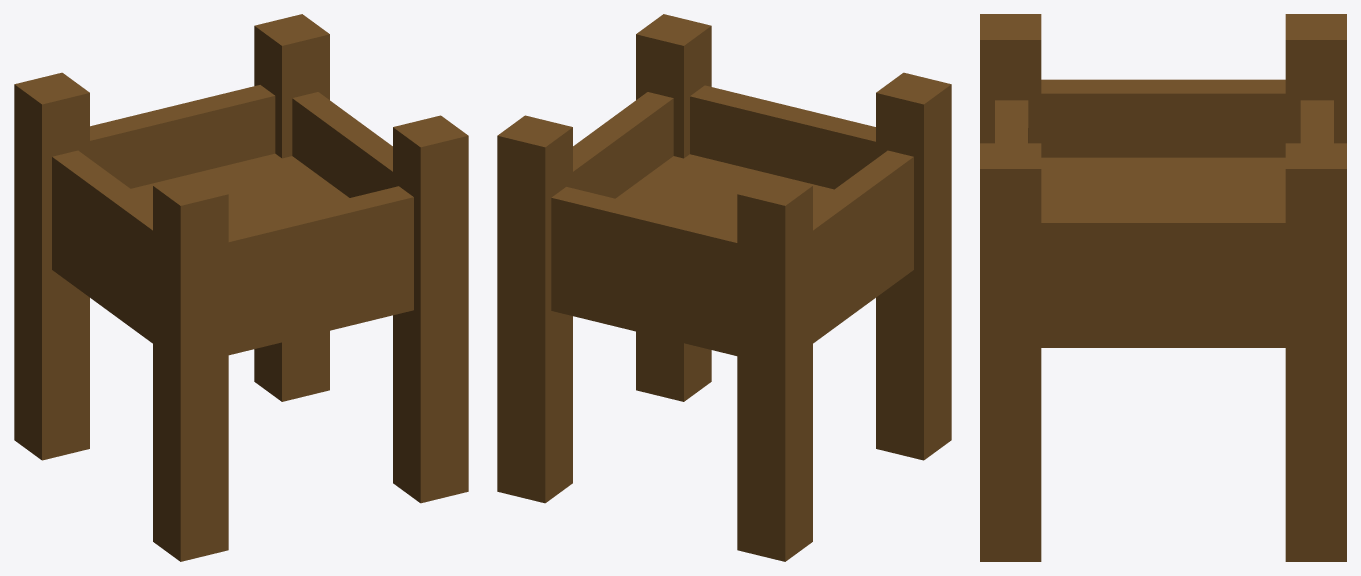
File: Single.fbx
3 views of the same model, side by side, from view 1: azimuth 30°, elevation 25°; view 2: azimuth 150°, elevation 25°; view 3: azimuth 270°, elevation 25° (orthographic). The views are drawn at different scales.
Visible parts, largest first — view 1: Bridge - Single; view 2: Bridge - Single; view 3: Bridge - Single.
Part boxes in pixels (left/top/right/bottom): Bridge - Single: left=14, top=14, right=468, bottom=561; Bridge - Single: left=497, top=14, right=951, bottom=561; Bridge - Single: left=980, top=14, right=1346, bottom=561.
Size of the model in its own units: 60 by 70.89 by 60.
